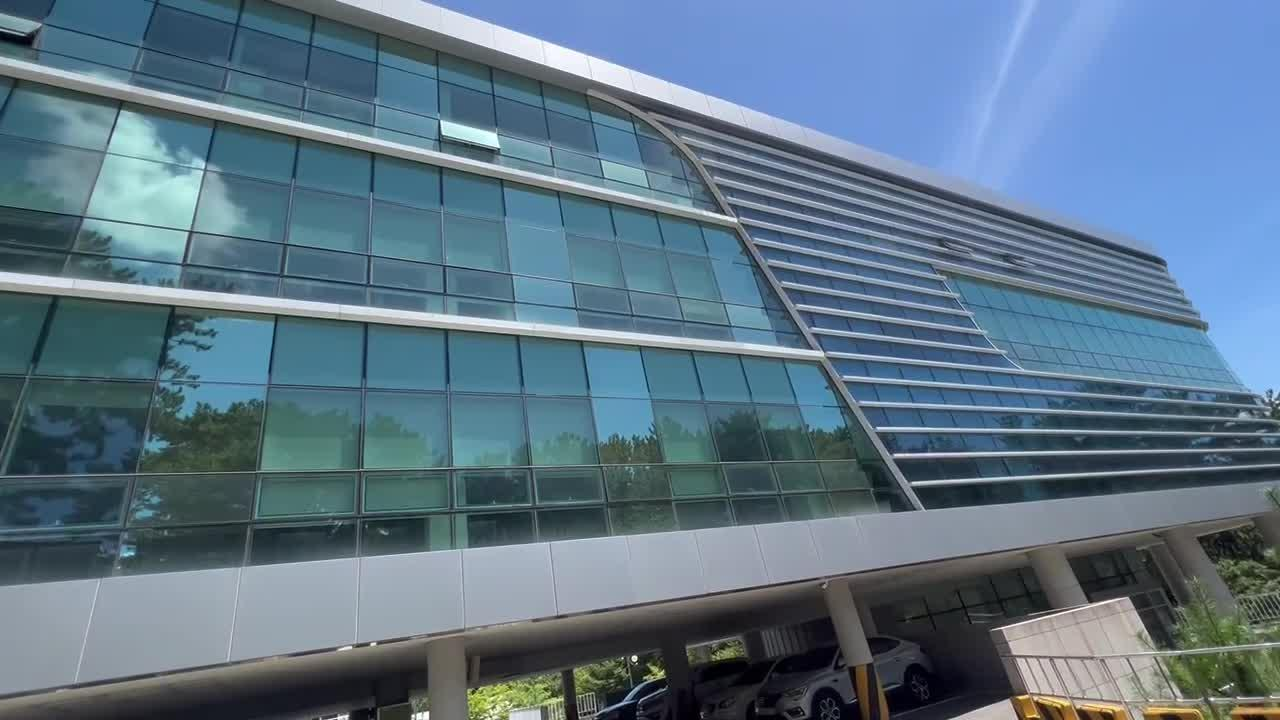building: (12, 3, 1280, 567)
